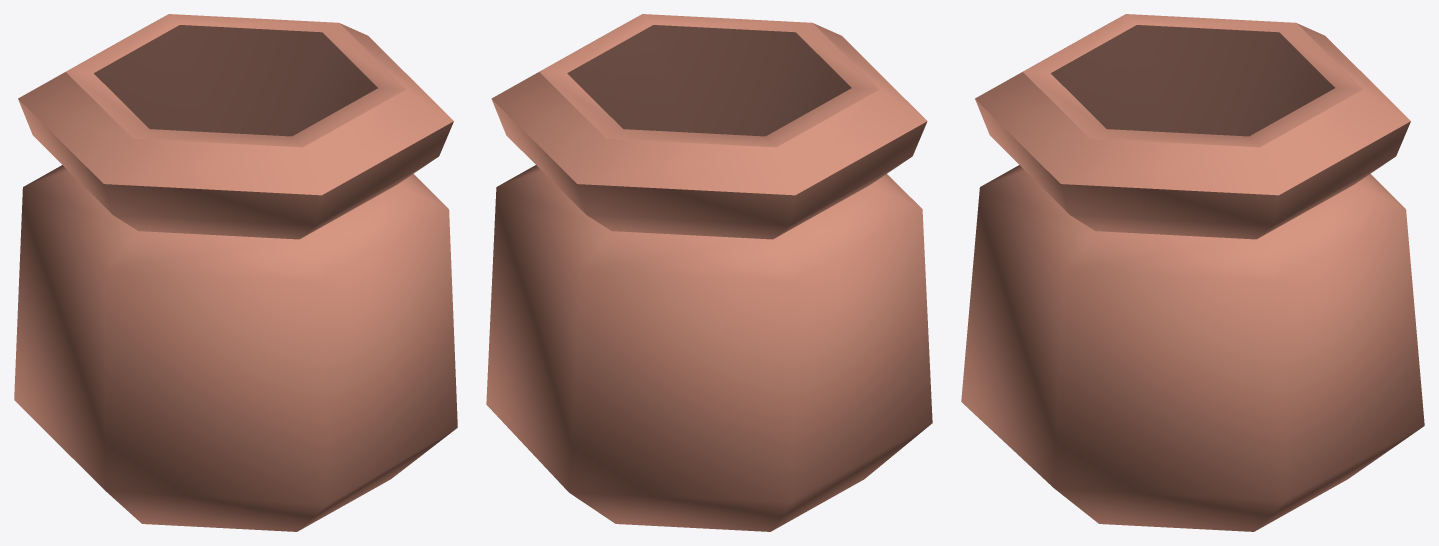
Rendered from n4_jug_004_lev4.glb.
3 views of the same model, side by side, from view 1: azimuth 30°, elevation 25°; view 2: azimuth 150°, elevation 25°; view 3: azimuth 270°, elevation 25° (orthographic).
Parts seen in each view (by area): view 1: n4_jug_004_lev4; view 2: n4_jug_004_lev4; view 3: n4_jug_004_lev4.
Boxes of the visible parts, x1,y1,x2,y2 form: n4_jug_004_lev4: (14, 14, 457, 531); n4_jug_004_lev4: (486, 14, 932, 531); n4_jug_004_lev4: (961, 14, 1424, 531).
Size of the model in its own units: 0.6107 by 0.6444 by 0.6931.
1 material, 1 textured.
